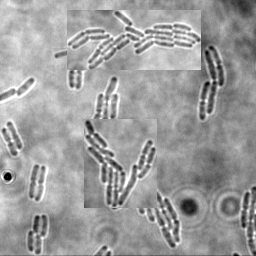Dividing: (1, 128, 18, 157), (34, 166, 47, 202), (94, 55, 128, 68), (28, 164, 39, 200), (53, 48, 89, 59), (239, 192, 249, 229), (67, 71, 81, 89)
Microcolony: (67, 10, 201, 70), (84, 119, 157, 208), (109, 158, 180, 249), (199, 45, 224, 121), (88, 76, 119, 119), (27, 214, 48, 255)
Rod: (5, 121, 23, 150), (16, 78, 34, 99), (73, 71, 82, 90)
